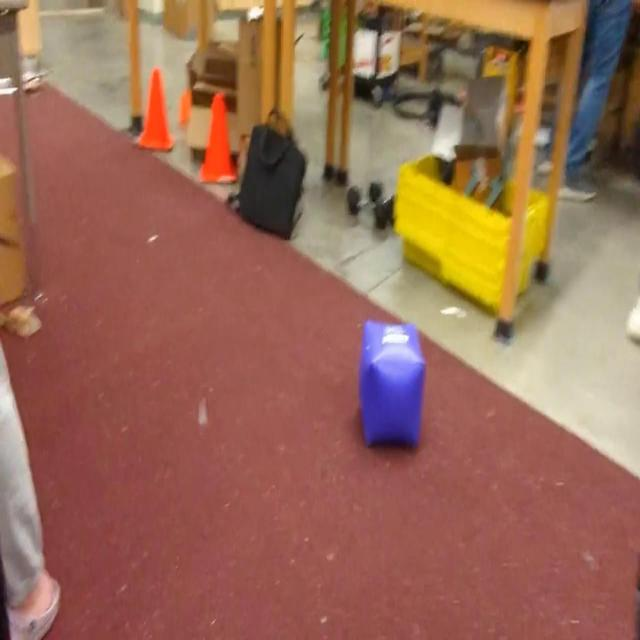frc_cube: (360, 318, 426, 452)
